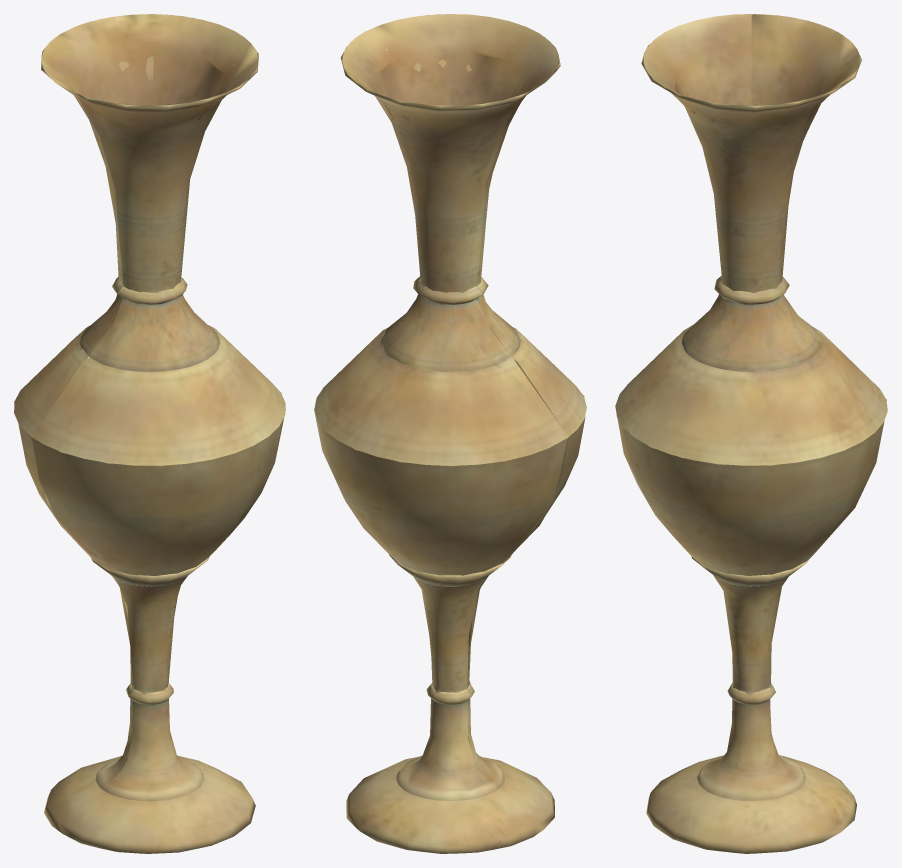
The model's file is brass_vase.glb.
3 renders of one model, left to right at view 1: azimuth 30°, elevation 25°; view 2: azimuth 150°, elevation 25°; view 3: azimuth 270°, elevation 25°, orthographic.
Parts seen in each view (by area): view 1: brass_vase_01; view 2: brass_vase_01; view 3: brass_vase_01.
Part boxes in pixels (<box>): brass_vase_01: <box>14,14,285,853</box>; brass_vase_01: <box>314,14,586,853</box>; brass_vase_01: <box>615,14,887,853</box>.
Bounding box in the file's own units: 0.1256 × 0.3811 × 0.1256.
Materials: 1 (1 with a texture image).
